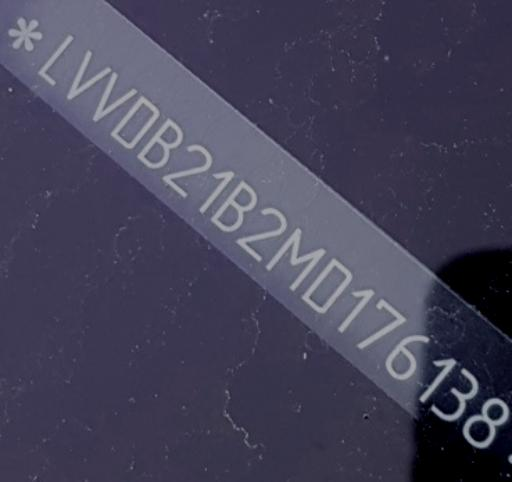letter: (264, 228, 326, 288), (300, 258, 352, 313), (429, 367, 481, 421), (164, 142, 214, 197), (236, 207, 288, 259), (111, 95, 163, 146), (210, 179, 258, 233), (353, 300, 407, 348), (136, 117, 184, 168), (90, 72, 136, 123), (384, 334, 436, 377), (414, 355, 460, 402), (464, 397, 508, 445), (34, 33, 74, 85), (68, 51, 108, 103), (198, 165, 238, 213), (335, 287, 375, 331)
